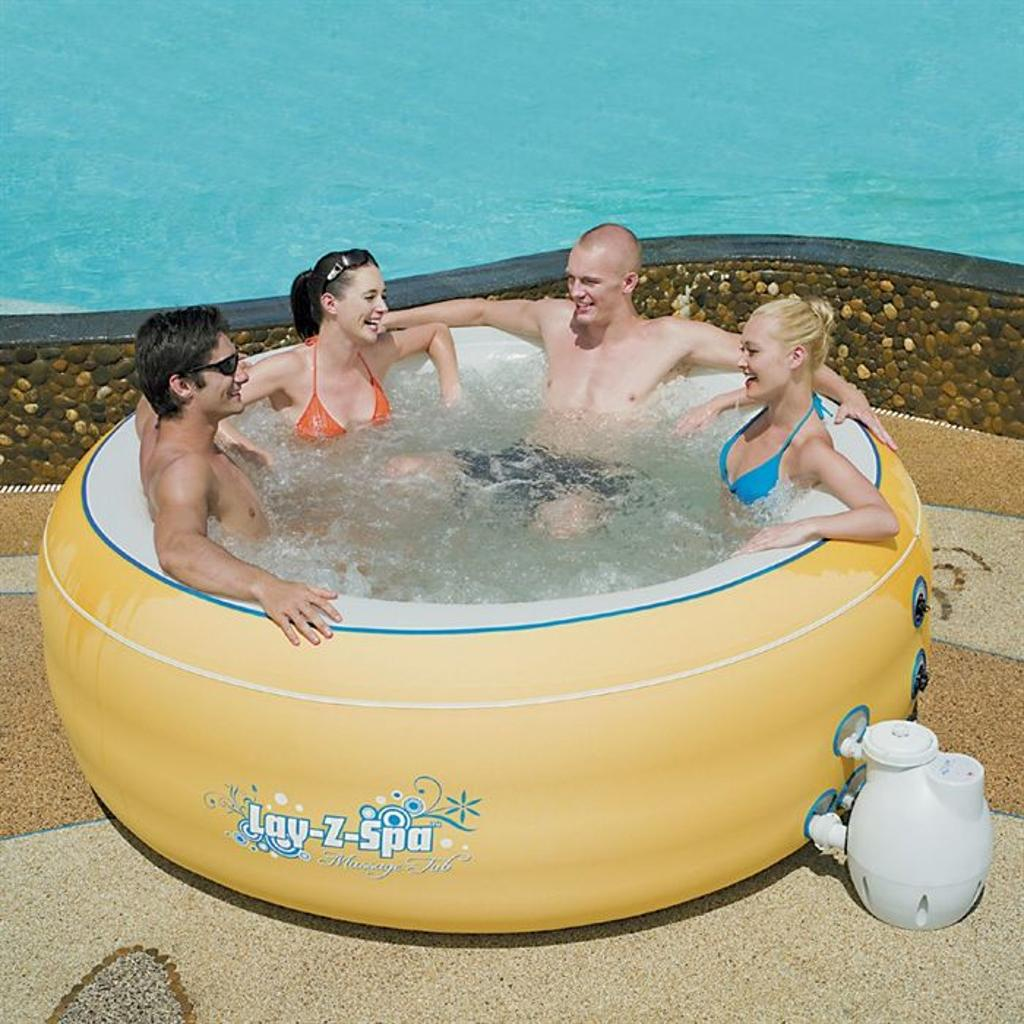face: (198, 332, 249, 415), (566, 246, 617, 325), (736, 316, 784, 398), (339, 268, 387, 344)
